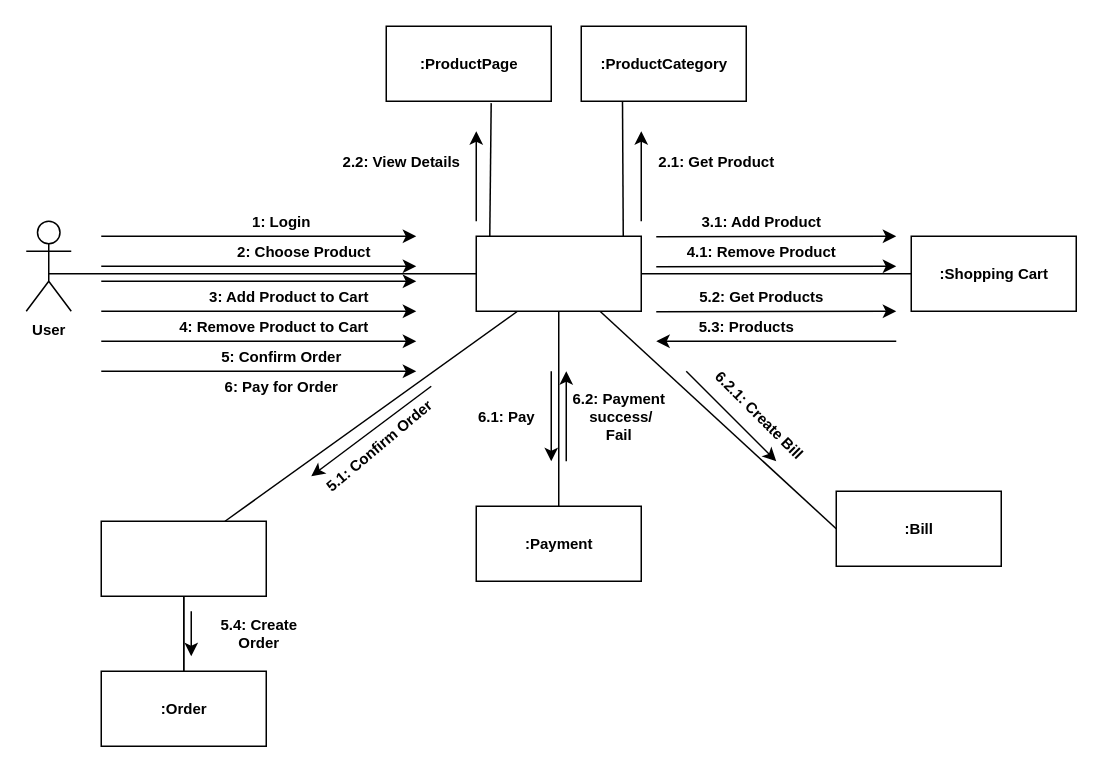
The diagram is 1103 pixels wide and 773 high, and some of its shapes have lost their labels. The box of each missing label's shape, as (x1, y1, x2, y2) in pixels:
:OrderController: (100, 520, 266, 596)
ESHOP: (475, 235, 641, 311)
